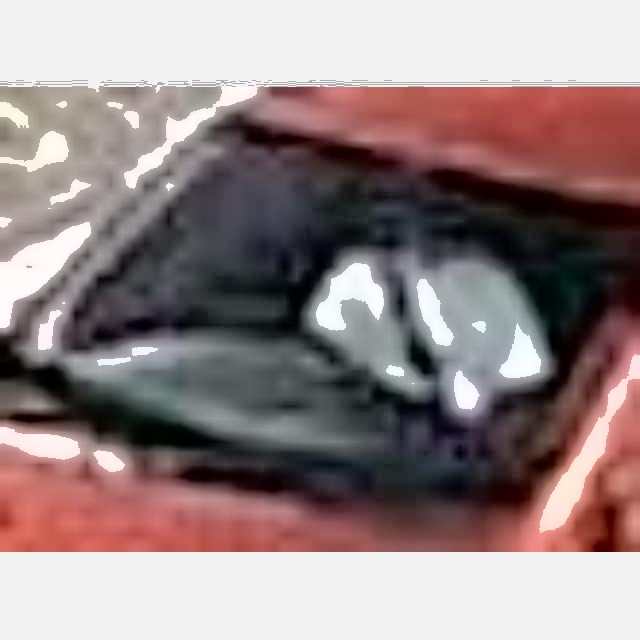pakai: (256, 157, 524, 413)
